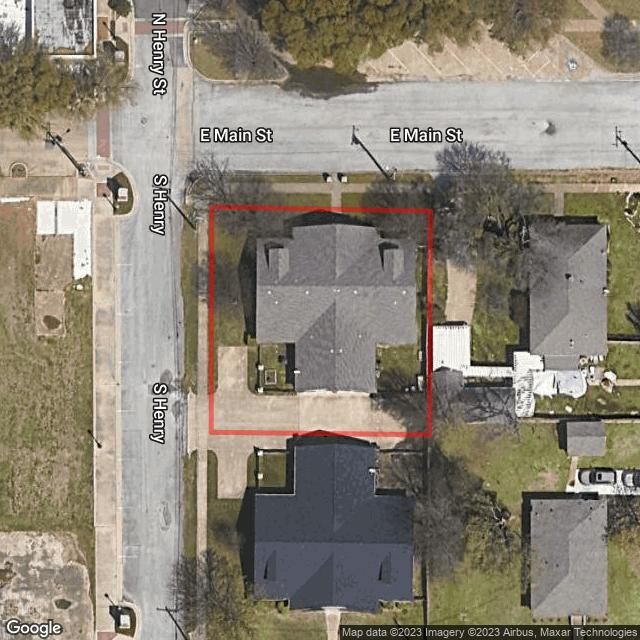Driveway: (216, 346, 427, 430)
Extra Driveway: (188, 394, 212, 428)
Extra Lawn: (181, 206, 199, 391), (286, 194, 330, 206), (269, 175, 322, 182), (398, 171, 431, 182), (349, 172, 381, 182), (341, 192, 363, 206)
Extra Sidewalk: (212, 183, 432, 205), (198, 206, 208, 395)
House: (256, 224, 418, 392)
